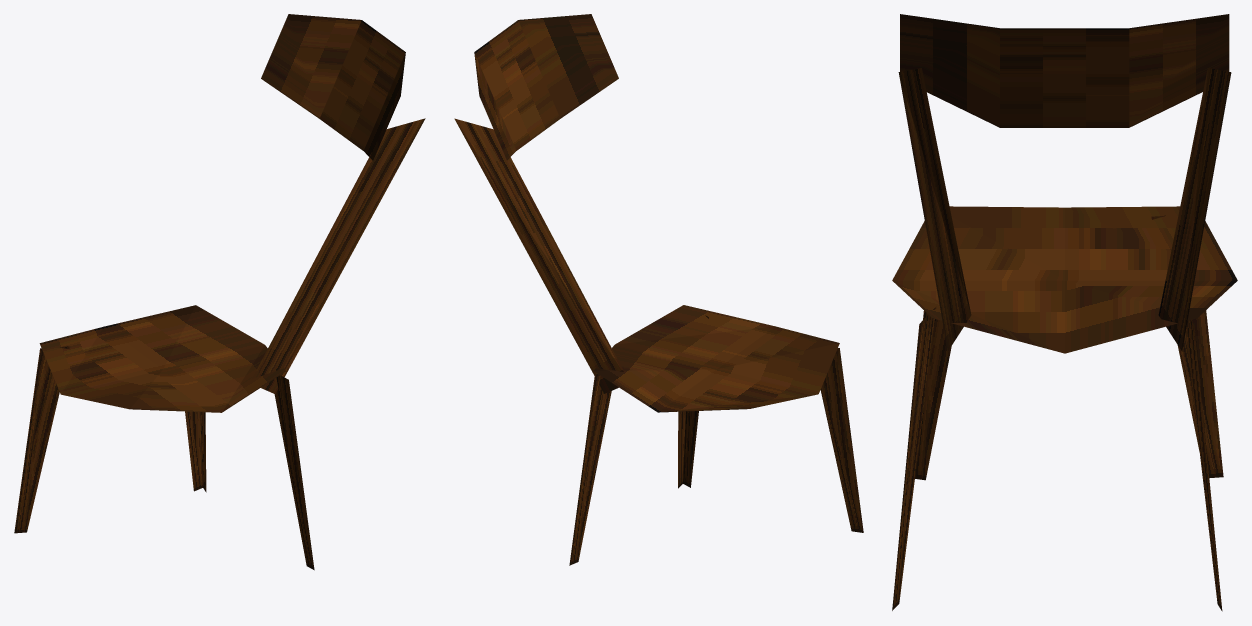
The model's file is Stuhl_Schräg [Holz]_278.glb.
3 renders of one model, left to right at view 1: azimuth 30°, elevation 25°; view 2: azimuth 150°, elevation 25°; view 3: azimuth 270°, elevation 25°, orthographic. The views are drawn at different scales.
Parts seen in each view (by area): view 1: pPlaneShape57, pPlaneShape58, pCylinderShape84, pCylinderShape81, pCylinderShape83, pCylinderShape82; view 2: pPlaneShape57, pPlaneShape58, pCylinderShape84, pCylinderShape80, pCylinderShape82, pCylinderShape83; view 3: pPlaneShape57, pPlaneShape58, pCylinderShape84, pCylinderShape83, pCylinderShape81, pCylinderShape80, pCylinderShape82.
Boxes of the visible parts, bbox=[...] form: pPlaneShape57: bbox=[39, 305, 285, 412]; pPlaneShape58: bbox=[261, 14, 405, 160]; pCylinderShape84: bbox=[252, 118, 425, 393]; pCylinderShape81: bbox=[14, 346, 70, 533]; pCylinderShape83: bbox=[274, 375, 314, 570]; pCylinderShape82: bbox=[185, 411, 206, 492]; pPlaneShape57: bbox=[594, 305, 839, 412]; pPlaneShape58: bbox=[474, 14, 618, 160]; pCylinderShape84: bbox=[454, 118, 623, 393]; pCylinderShape80: bbox=[820, 348, 863, 532]; pCylinderShape82: bbox=[569, 374, 611, 565]; pCylinderShape83: bbox=[678, 315, 708, 488]; pPlaneShape57: bbox=[892, 206, 1237, 353]; pPlaneShape58: bbox=[900, 14, 1229, 127]; pCylinderShape84: bbox=[898, 68, 1231, 351]; pCylinderShape83: bbox=[892, 306, 936, 610]; pCylinderShape81: bbox=[1151, 215, 1223, 478]; pCylinderShape80: bbox=[915, 310, 951, 480]; pCylinderShape82: bbox=[1185, 320, 1222, 611].
Size of the model in its own units: 0.1147 by 0.1561 by 0.0725.
7 materials, 7 textured.
